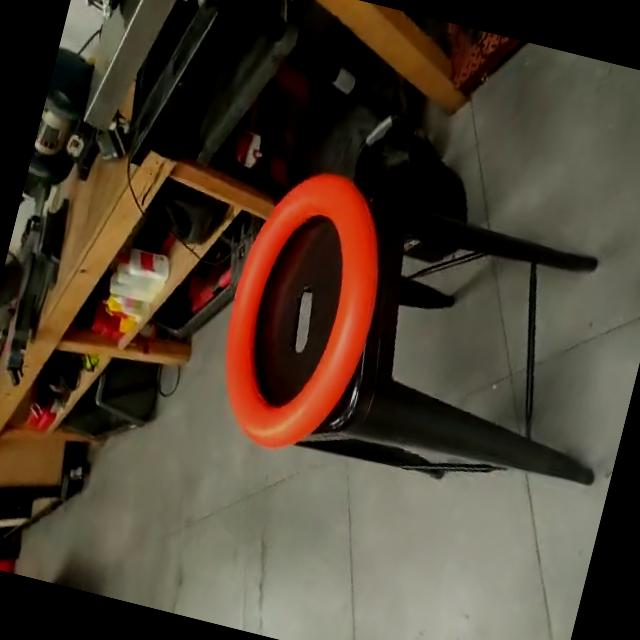note: (198, 158, 406, 468)
